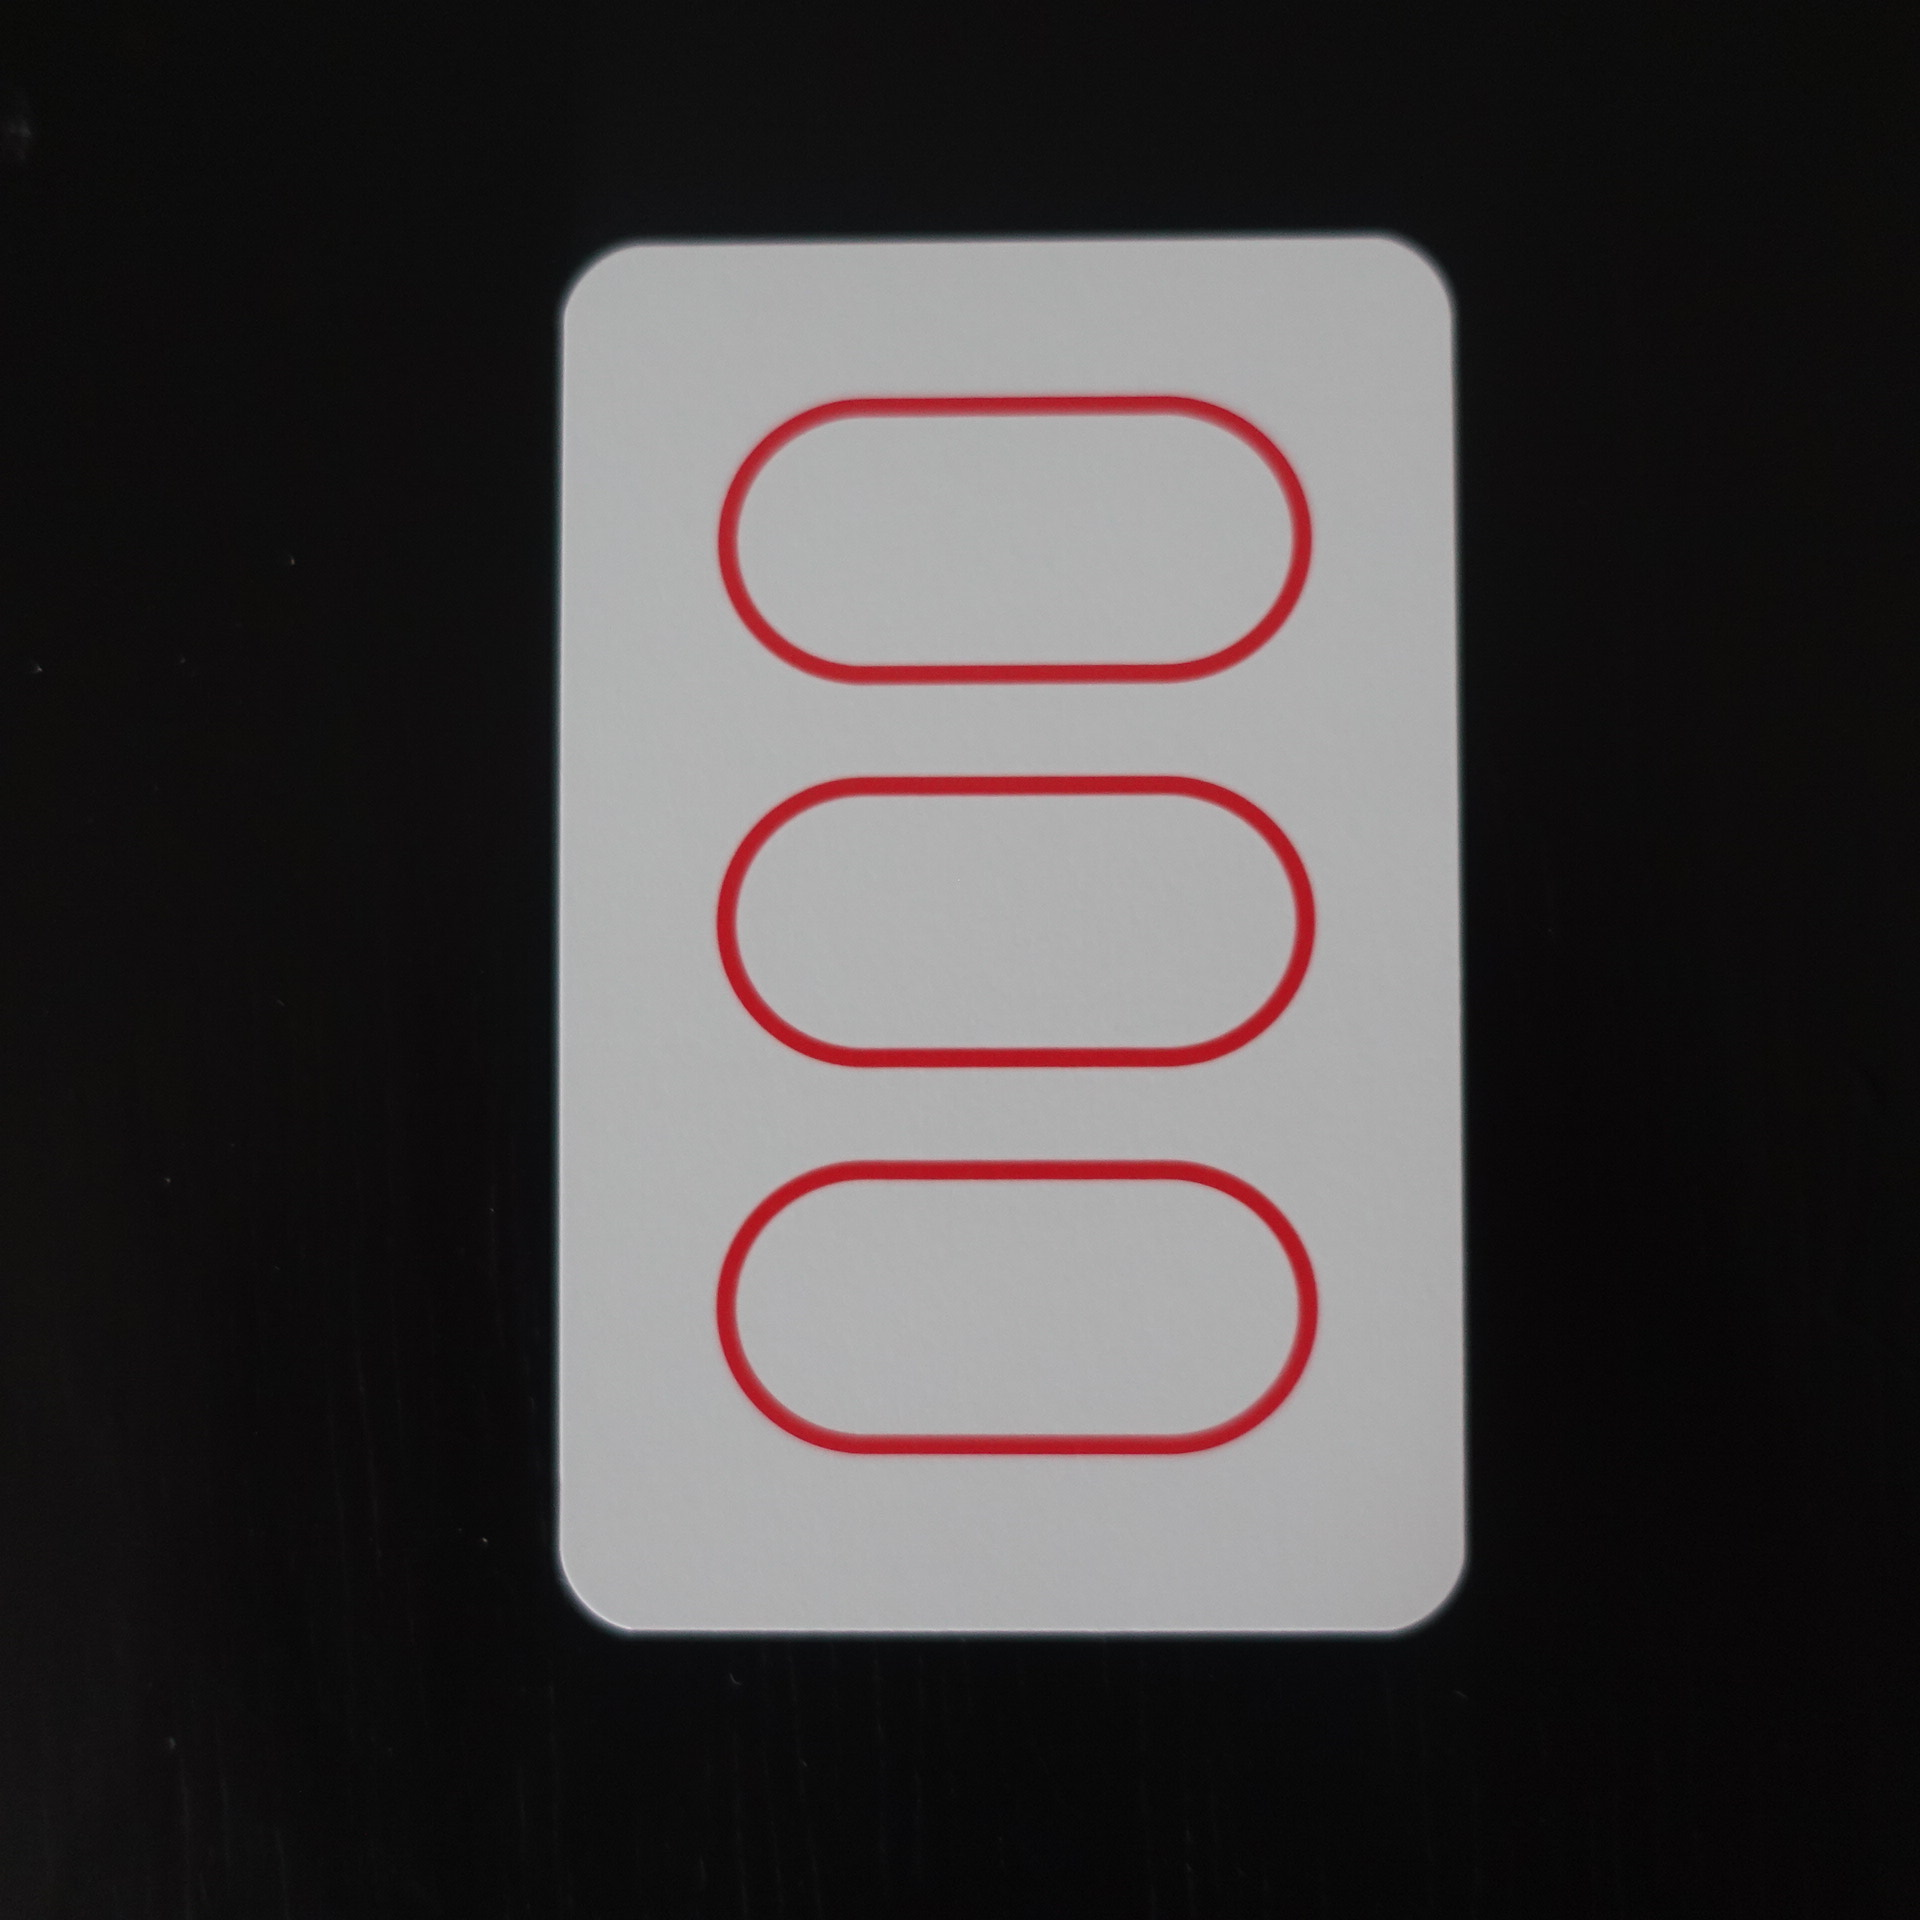c-3-u-o-r: (522, 220, 1500, 1672)
